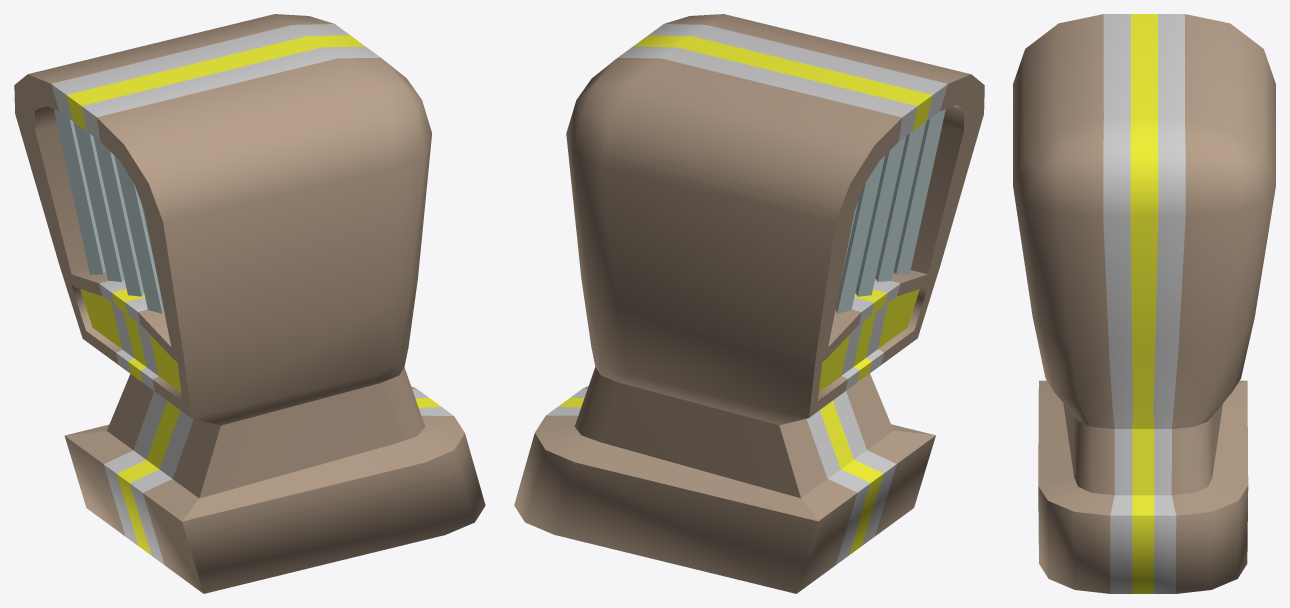
The model's file is DesertRaceLight.fbx.
The picture shows the model from 3 angles, left to right: view 1: azimuth 30°, elevation 25°; view 2: azimuth 150°, elevation 25°; view 3: azimuth 270°, elevation 25°; orthographic projection. The views are drawn at different scales.
Parts seen in each view (by area): view 1: DesertTrackLight; view 2: DesertTrackLight; view 3: DesertTrackLight.
Part boxes in pixels (box(x1,y1,x2,y2)): DesertTrackLight: box(14, 14, 485, 593); DesertTrackLight: box(514, 14, 984, 593); DesertTrackLight: box(1013, 14, 1275, 593).
Bounding box in the file's own units: 7.06 × 4.74 × 8.26.
